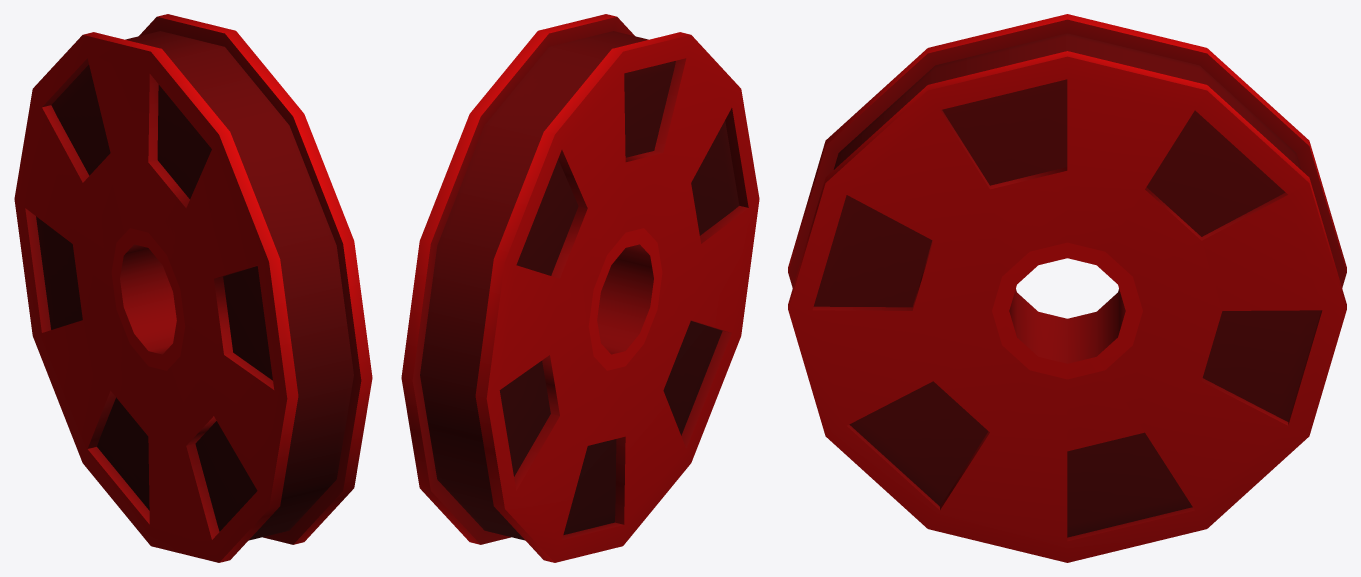
Rendered from FilmReel.glb.
The picture shows the model from 3 angles, left to right: view 1: azimuth 30°, elevation 25°; view 2: azimuth 150°, elevation 25°; view 3: azimuth 270°, elevation 25°; orthographic projection. The views are drawn at different scales.
Parts seen in each view (by area): view 1: FilmReel; view 2: FilmReel; view 3: FilmReel.
Boxes of the visible parts, box(x1,y1,x2,y2) form: FilmReel: box(14, 14, 372, 562); FilmReel: box(401, 14, 759, 562); FilmReel: box(788, 14, 1346, 562).
Bounding box in the file's own units: 0.3436 × 1.8 × 1.8.
